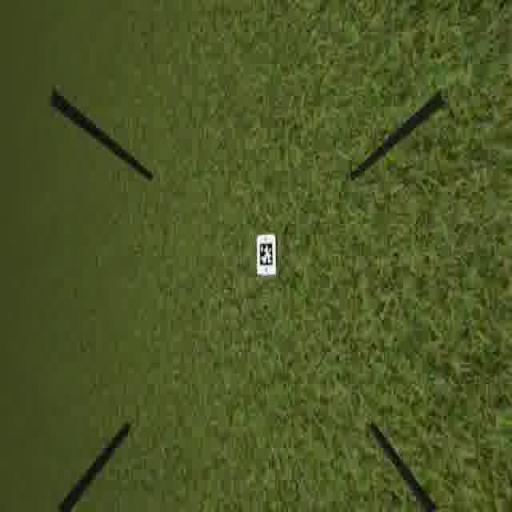UGV: (254, 232, 278, 277)
